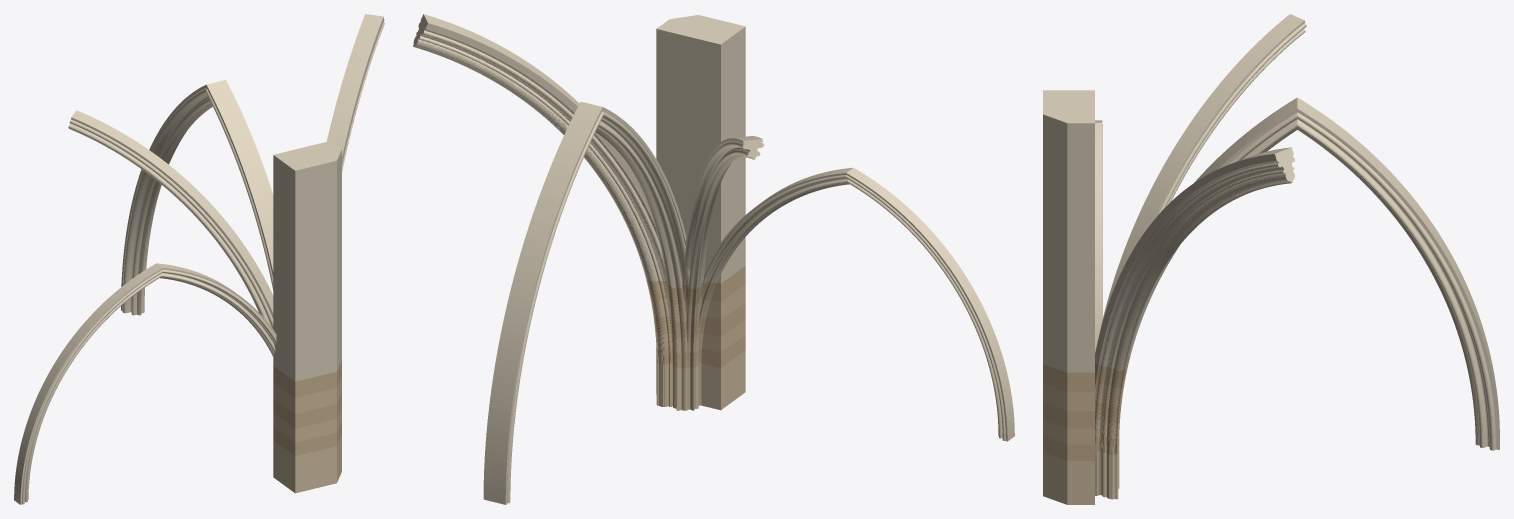
The model's file is springer_variant.glb.
The picture shows the model from 3 angles, left to right: view 1: azimuth 30°, elevation 25°; view 2: azimuth 150°, elevation 25°; view 3: azimuth 270°, elevation 25°; orthographic projection. The views are drawn at different scales.
Visible parts, largest first — view 1: receiver, member_0, member_3, member_1, member_2, derived_respond, course_05, course_04, course_03, course_01, course_02; view 2: member_0, receiver, member_2, member_3, member_1, derived_respond, course_05, course_04, course_03, course_01, course_02; view 3: receiver, member_0, member_2, member_1, derived_respond, member_3, course_05, course_04, course_03, course_01, course_02.
Boxes of the visible parts, <box> form: receiver: <box>273,141,341,381</box>; member_0: <box>121,80,273,315</box>; member_3: <box>14,263,276,504</box>; member_1: <box>68,110,273,328</box>; member_2: <box>326,14,384,171</box>; derived_respond: <box>273,435,341,493</box>; course_05: <box>273,360,341,397</box>; course_04: <box>273,377,341,413</box>; course_03: <box>273,393,341,428</box>; course_01: <box>273,421,341,455</box>; course_02: <box>273,408,341,442</box>; member_0: <box>483,101,689,504</box>; receiver: <box>656,15,745,283</box>; member_2: <box>413,14,666,281</box>; member_3: <box>703,167,1014,441</box>; member_1: <box>682,136,763,289</box>; derived_respond: <box>656,350,745,410</box>; course_05: <box>646,266,745,305</box>; course_04: <box>650,284,745,322</box>; course_03: <box>653,302,745,338</box>; course_01: <box>656,335,745,368</box>; course_02: <box>655,319,745,353</box>; receiver: <box>1043,90,1094,372</box>; member_0: <box>1128,97,1499,450</box>; member_2: <box>1095,147,1294,370</box>; member_1: <box>1099,14,1306,335</box>; derived_respond: <box>1043,445,1119,504</box>; member_3: <box>1095,120,1102,348</box>; course_05: <box>1043,349,1129,391</box>; course_04: <box>1043,375,1125,410</box>; course_03: <box>1043,395,1122,428</box>; course_01: <box>1043,428,1119,460</box>; course_02: <box>1043,412,1120,444</box>.
Bounding box in the file's own units: 3758 × 2900 × 2820.
